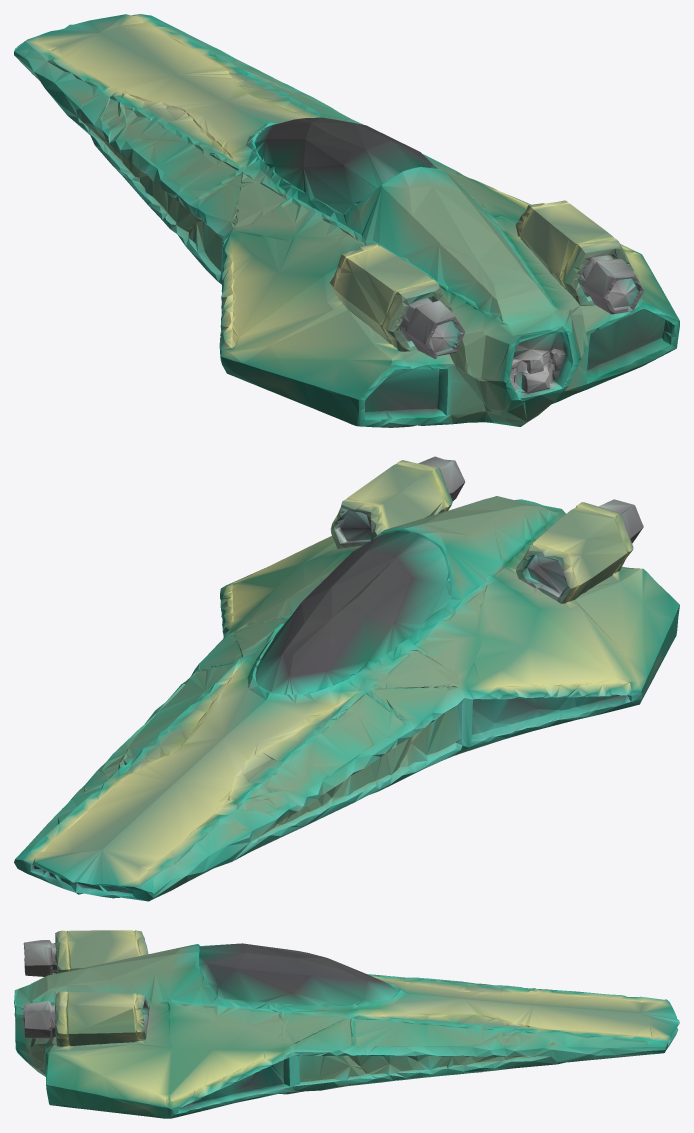
File: viper_lo.glb
The picture shows the model from 3 angles, top to bottom: view 1: azimuth 30°, elevation 25°; view 2: azimuth 150°, elevation 25°; view 3: azimuth 270°, elevation 25°; orthographic projection. The views are drawn at different scales.
Parts seen in each view (by area): view 1: geometry_0; view 2: geometry_0; view 3: geometry_0.
Part boxes in pixels (x1,y1,x2,y2): geometry_0: (14, 14, 679, 427); geometry_0: (14, 456, 679, 901); geometry_0: (14, 930, 679, 1118).
Bounding box in the file's own units: 5.6 × 2.26 × 10.8.
